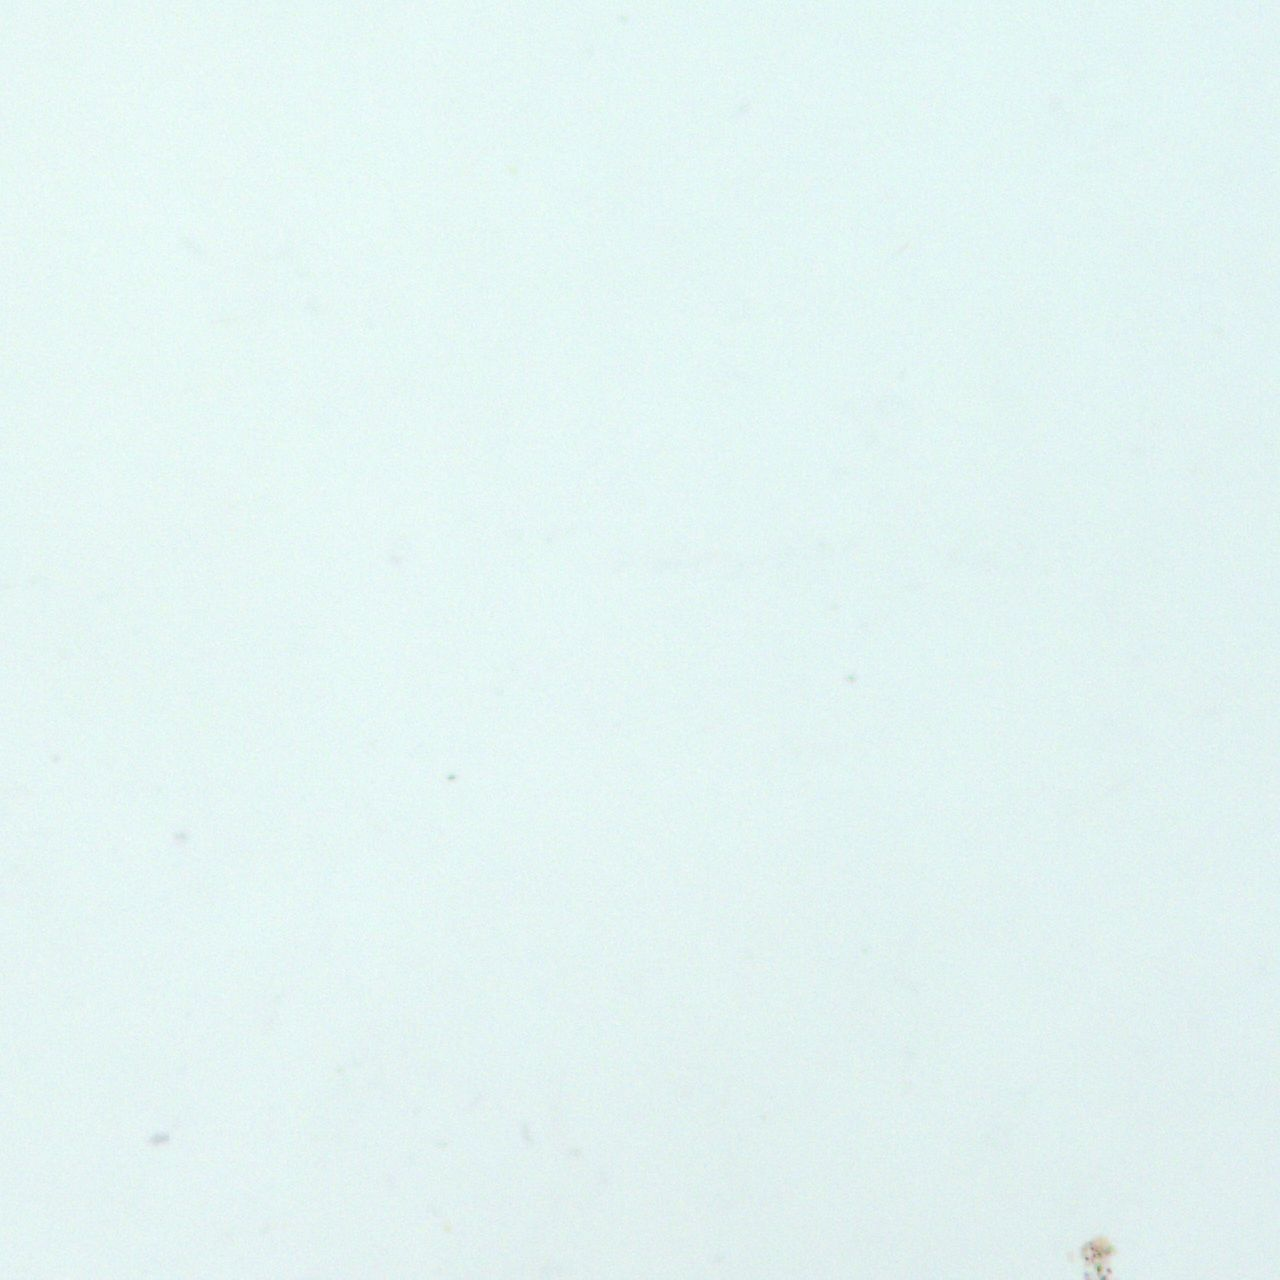nucleus-HE: (1080, 1235, 1115, 1279)
